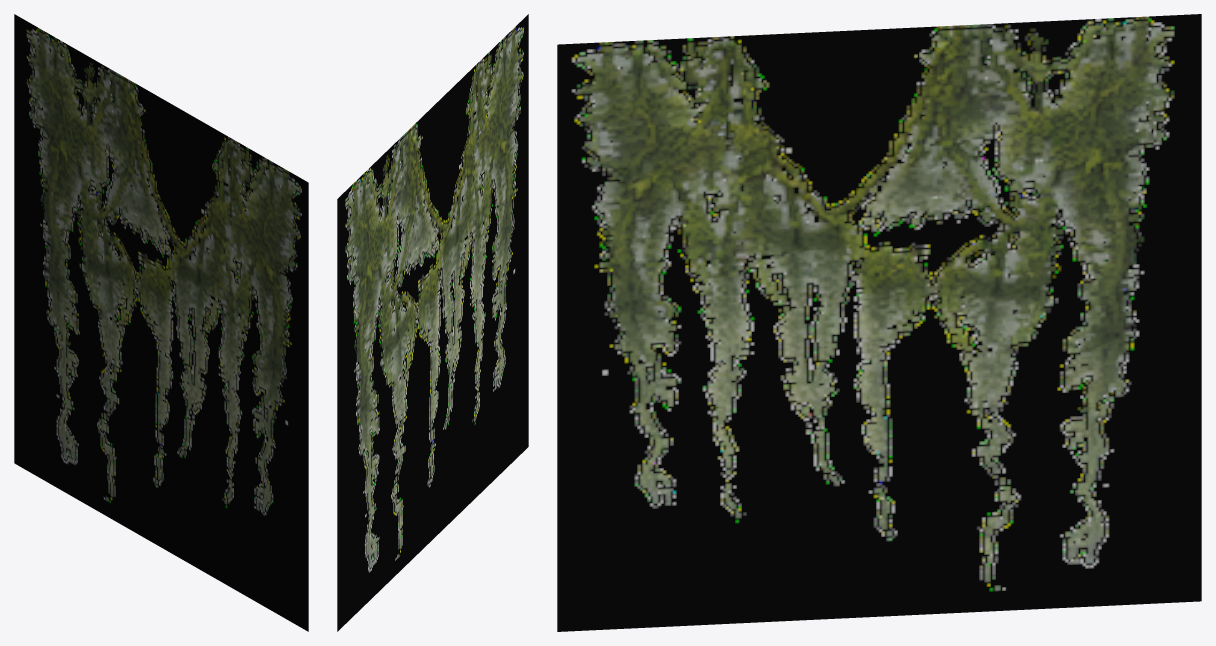
The model's file is MTree_6_LIquen.gltf.
3 renders of one model, left to right at view 1: azimuth 30°, elevation 25°; view 2: azimuth 150°, elevation 25°; view 3: azimuth 270°, elevation 25°, orthographic. The views are drawn at different scales.
Visible parts, largest first — view 1: MTree_6_LIquen; view 2: MTree_6_LIquen; view 3: MTree_6_LIquen.
Boxes of the visible parts, x1=… form: MTree_6_LIquen: x1=14, y1=14, x2=308, y2=631; MTree_6_LIquen: x1=337, y1=14, x2=528, y2=631; MTree_6_LIquen: x1=557, y1=14, x2=1201, y2=631.
Bounding box in the file's own units: 0.444 × 3.98 × 3.95.
1 material, 1 textured.
